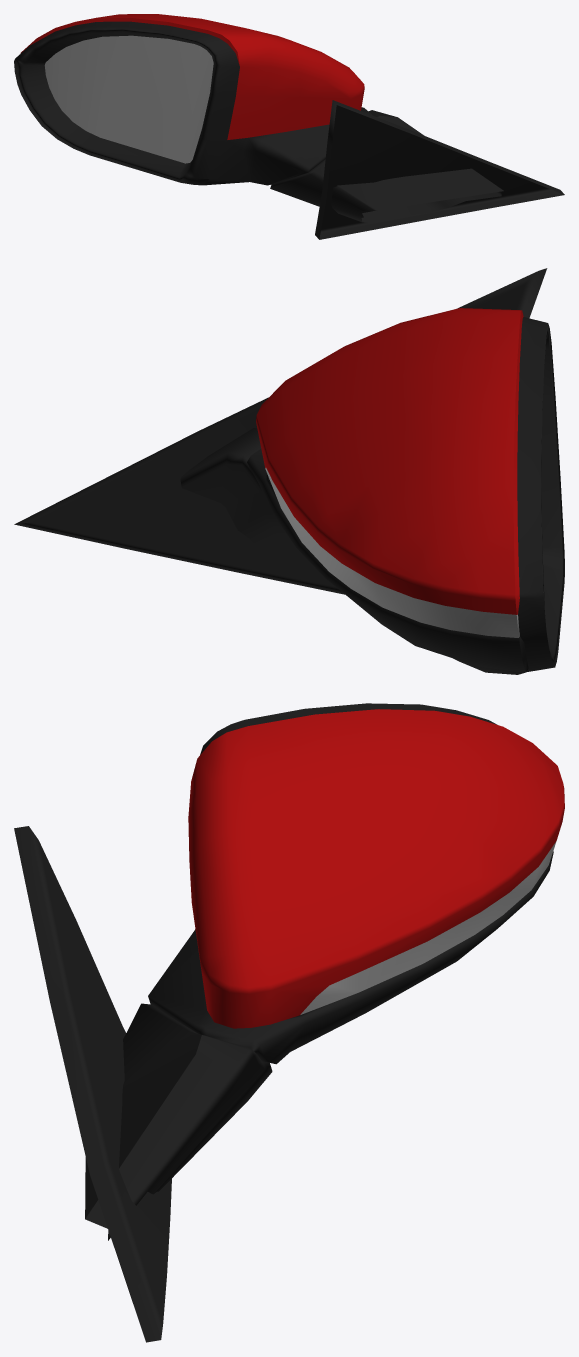
3 views of the same model, one above another, from view 1: azimuth 30°, elevation 25°; view 2: azimuth 150°, elevation 25°; view 3: azimuth 270°, elevation 25° (orthographic). The views are drawn at different scales.
Visible parts, largest first — view 1: Y175_18_261I_L_Y175_18_261I_L_2_D, Y175_18_261I_L_Y175_18_261I_L_3_DTaSI, Y175_18_261I_L_1_DaS_Y175_18_261I_L, Y175_18_261I_L_1_DaS_Y175_18_261I_L_E; view 2: Y175_18_261I_L_1_DaS_Y175_18_261I_L, Y175_18_261I_L_Y175_18_261I_L_2_D, Y175_18_261I_L_Y175_18_261I_L_4_DaS, Y175_18_261I_L_1_DaS_Y175_18_261I_L_E; view 3: Y175_18_261I_L_1_DaS_Y175_18_261I_L, Y175_18_261I_L_Y175_18_261I_L_2_D, Y175_18_261I_L_Y175_18_261I_L_4_DaS.
Boxes of the visible parts, x1=… form: Y175_18_261I_L_Y175_18_261I_L_2_D: x1=14, y1=21, x2=564, y2=239; Y175_18_261I_L_Y175_18_261I_L_3_DTaSI: x1=44, y1=35, x2=213, y2=163; Y175_18_261I_L_1_DaS_Y175_18_261I_L: x1=80, y1=14, x2=364, y2=139; Y175_18_261I_L_1_DaS_Y175_18_261I_L_E: x1=20, y1=18, x2=239, y2=64; Y175_18_261I_L_1_DaS_Y175_18_261I_L: x1=256, y1=308, x2=521, y2=614; Y175_18_261I_L_Y175_18_261I_L_2_D: x1=14, y1=268, x2=564, y2=674; Y175_18_261I_L_Y175_18_261I_L_4_DaS: x1=265, y1=468, x2=519, y2=637; Y175_18_261I_L_1_DaS_Y175_18_261I_L_E: x1=513, y1=310, x2=523, y2=614; Y175_18_261I_L_1_DaS_Y175_18_261I_L: x1=188, y1=709, x2=564, y2=1028; Y175_18_261I_L_Y175_18_261I_L_2_D: x1=14, y1=703, x2=553, y2=1342; Y175_18_261I_L_Y175_18_261I_L_4_DaS: x1=300, y1=841, x2=556, y2=1014.
Bounding box in the file's own units: 40.52 × 19.93 × 27.73.
